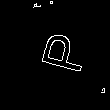P_W: (28, 30, 87, 79)
